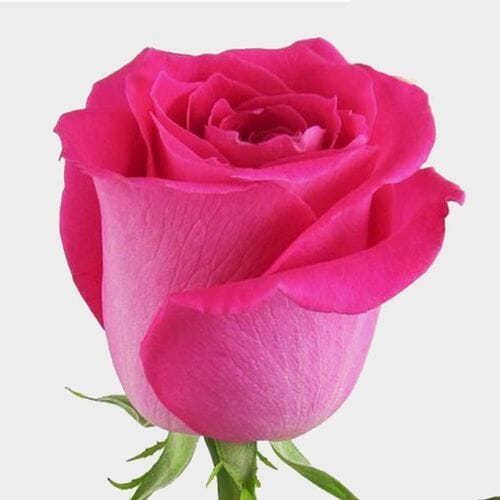rose: (32, 31, 472, 459)
